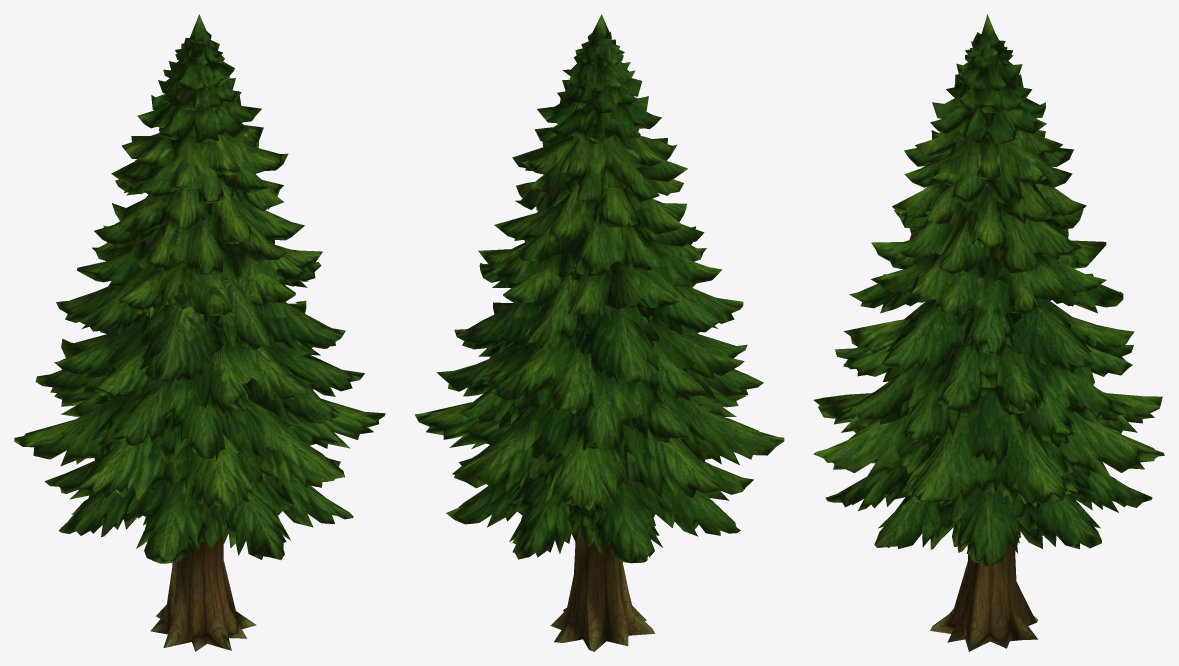
The model's file is kit_bolu_fir.glb.
3 views of the same model, side by side, from view 1: azimuth 30°, elevation 25°; view 2: azimuth 150°, elevation 25°; view 3: azimuth 270°, elevation 25° (orthographic).
Visible parts, largest first — view 1: Mesh1.0; view 2: Mesh1.0; view 3: Mesh1.0.
Part boxes in pixels (bbox=[...]): Mesh1.0: bbox=[14, 14, 385, 651]; Mesh1.0: bbox=[414, 14, 784, 651]; Mesh1.0: bbox=[813, 14, 1164, 651].
Bounding box in the file's own units: 4.65 × 9 × 4.66.
1 material, 1 textured.
